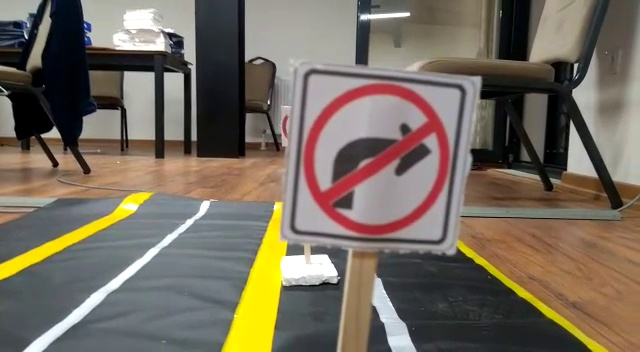saga_donulmez: (305, 77, 448, 238)
